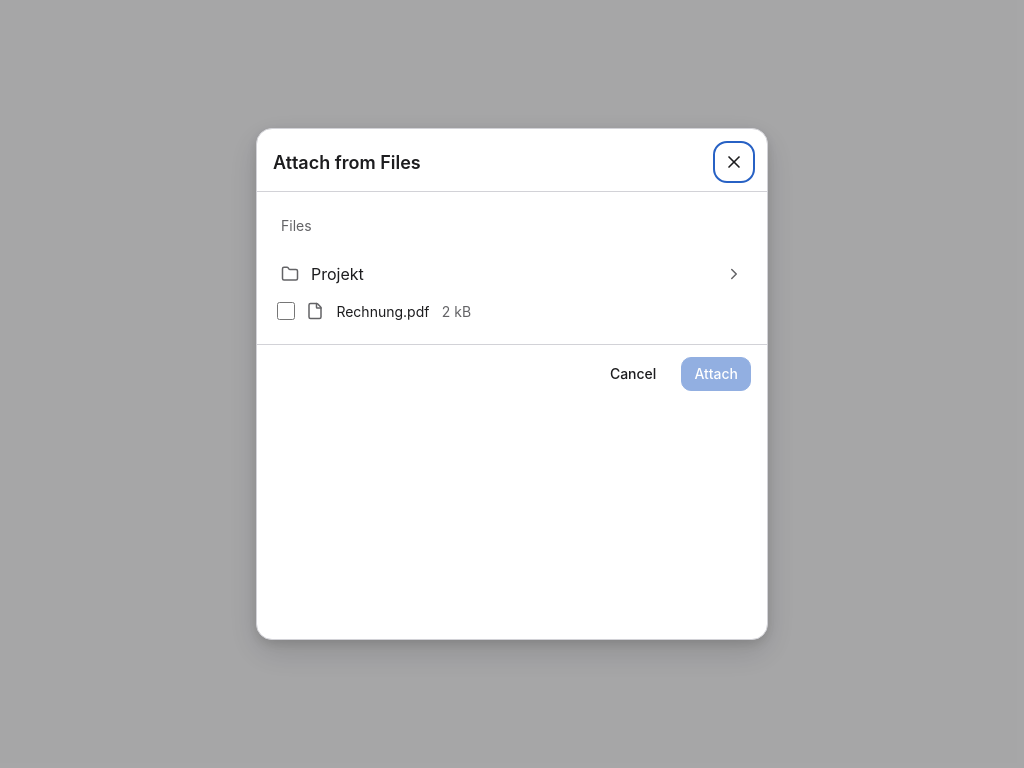
Test: AttachFromFilesDialog (D-5) › walks into a folder and back out through the path
The width and height of the screenshot is (1024, 768).
Expected: the text "Projekt" is shown, x1=311 y1=264 x2=364 y2=284
Click the button "Projekt" at (337, 274), box x1=273 y1=254 x2=751 y2=294
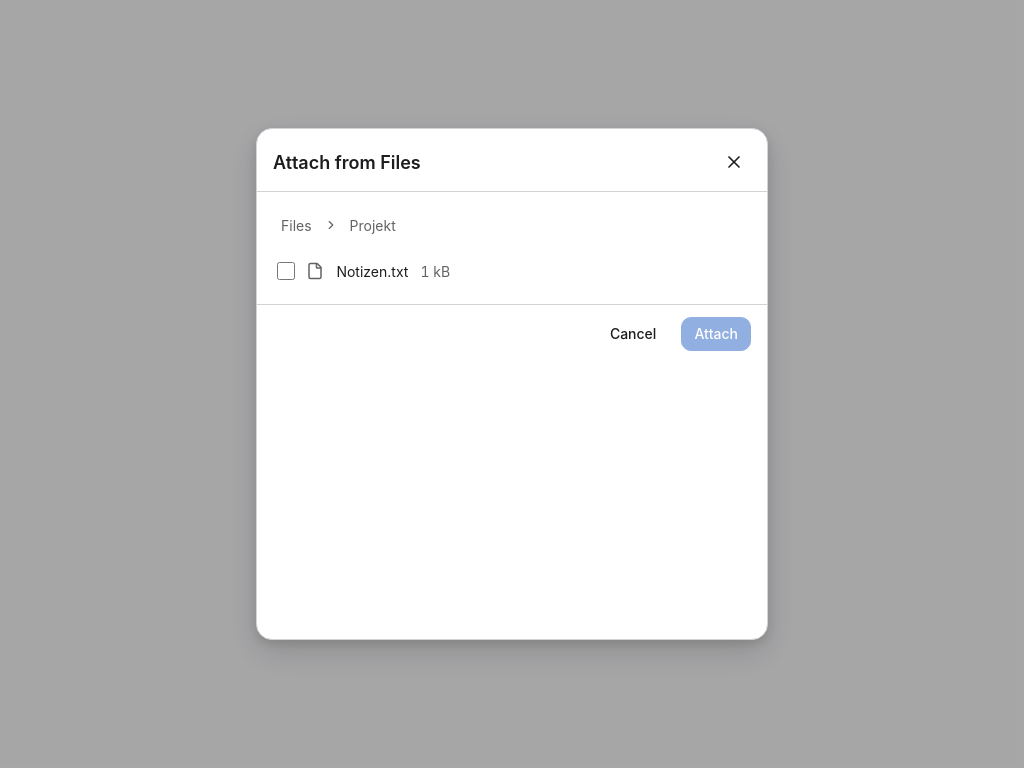
Now the text "Notizen.txt" is shown, box x1=336 y1=260 x2=408 y2=282
# A picker one folder deep whose only way out is Cancel is the classic dead end.
Click the button "Files" at (296, 225), box x1=273 y1=208 x2=320 y2=242
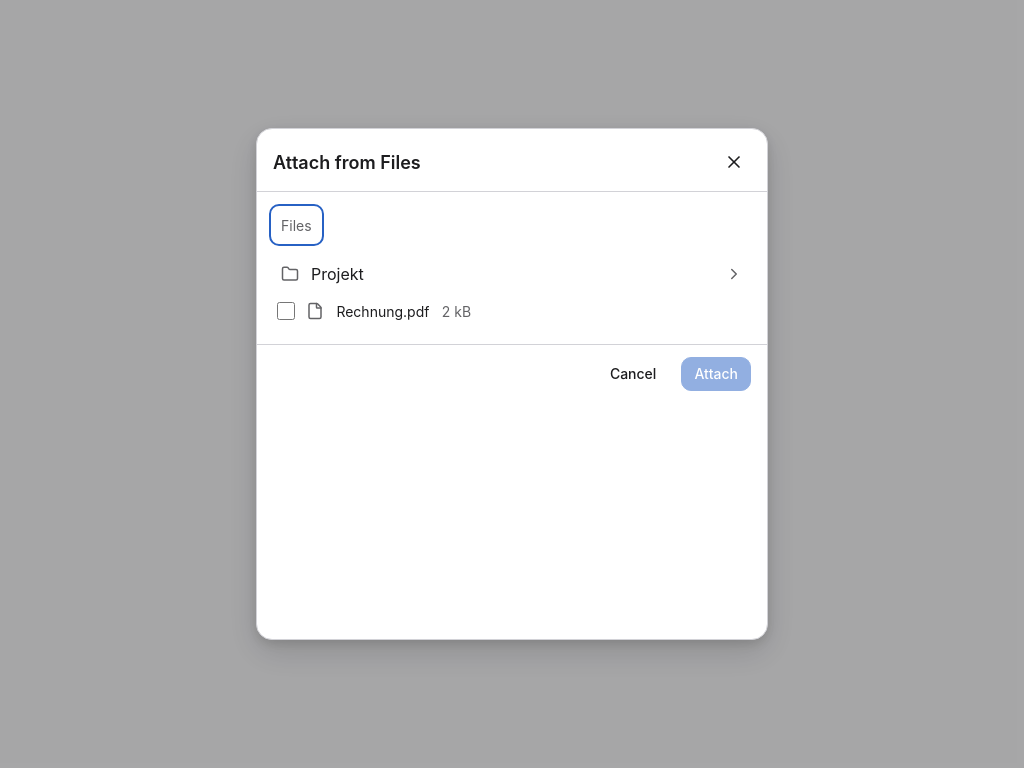
Now the text "Rechnung.pdf" is shown, box x1=336 y1=300 x2=429 y2=322
